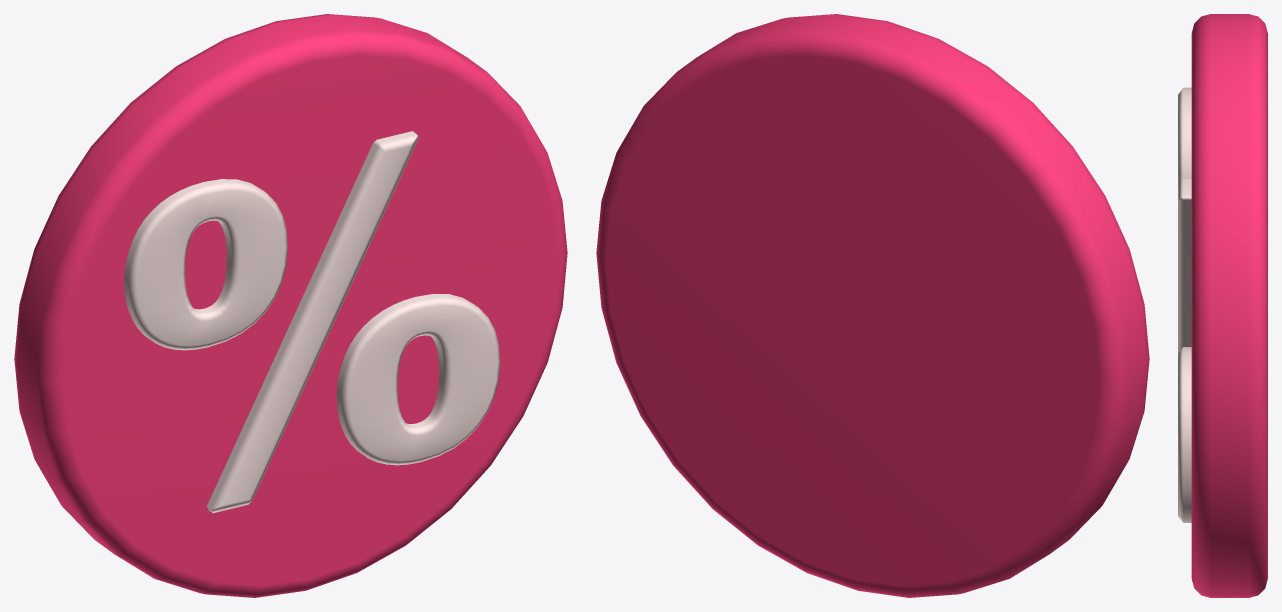
Rendered from Public_10_Discount_Sign_1.glb.
3 renders of one model, left to right at view 1: azimuth 30°, elevation 25°; view 2: azimuth 150°, elevation 25°; view 3: azimuth 270°, elevation 25°, orthographic. The views are drawn at different scales.
Parts seen in each view (by area): view 1: Public_10_Discount_Sign_1; view 2: Public_10_Discount_Sign_1; view 3: Public_10_Discount_Sign_1.
Part boxes in pixels (x1=…): Public_10_Discount_Sign_1: x1=14, y1=14, x2=567, y2=597; Public_10_Discount_Sign_1: x1=596, y1=14, x2=1149, y2=597; Public_10_Discount_Sign_1: x1=1178, y1=14, x2=1267, y2=597.
Bounding box in the file's own units: 5.45 × 5.45 × 0.8361.
Materials: 1 (1 with a texture image).
